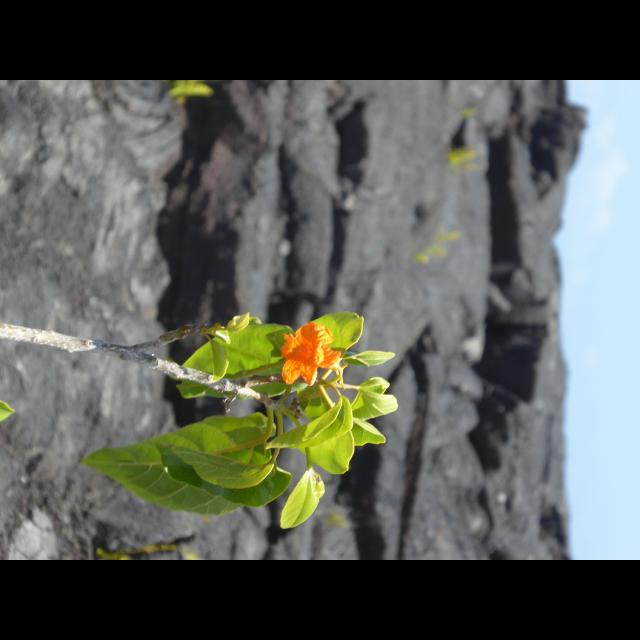Flower: (282, 320, 341, 384)
